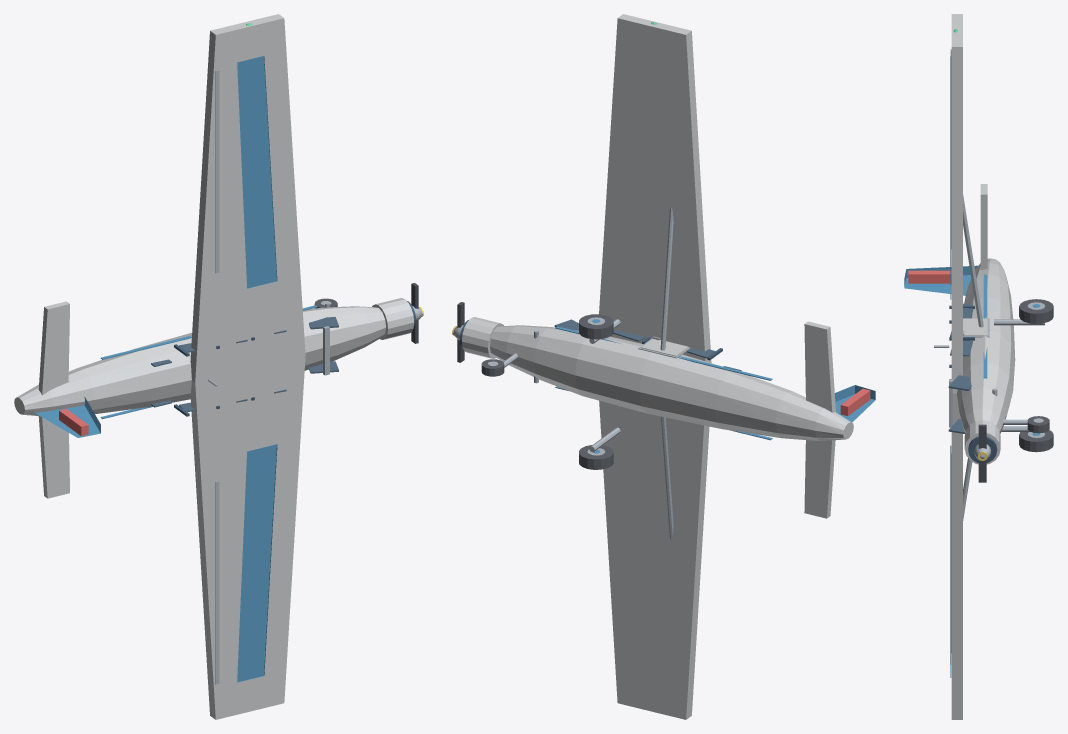
The model's file is small_propeller_plane_source.glb.
3 renders of one model, left to right at view 1: azimuth 30°, elevation 25°; view 2: azimuth 150°, elevation 25°; view 3: azimuth 270°, elevation 25°, orthographic.
Parts seen in each view (by area): view 1: Right_main_wing, Left_main_wing, Main_fuselage_white, Blue_wing_stripe_-1, Blue_wing_stripe_1, Tailplane_right, Tailplane_left, Engine_cowling, Aileron_-1, Aileron_1, Vertical_tail_fin; view 2: Right_main_wing, Left_main_wing, Main_fuselage_white, Tailplane_right, Tailplane_left, Engine_cowling, Wing_support_strut_1, Main_tire_1, Wing_support_strut_-1; view 3: Main_fuselage_white, Right_main_wing, Left_main_wing, Vertical_tail_fin, Engine_cowling, Tailplane_right, Main_tire_1, Wing_support_strut_1, Tail_red_accent, Main_tire_-1, Blue_wing_stripe_1, Blue_wing_stripe_-1 (+8 smaller).
Part boxes in pixels (x1,y1,x2,y2): Right_main_wing: (190,14,305,382); Left_main_wing: (190,355,305,719); Main_fuselage_white: (14,306,385,415); Blue_wing_stripe_-1: (237,444,277,682); Blue_wing_stripe_1: (237,56,277,288); Tailplane_right: (38,301,69,395); Tailplane_left: (38,416,69,498); Engine_cowling: (372,298,414,339); Aileron_-1: (215,481,219,684); Aileron_1: (215,70,219,273); Vertical_tail_fin: (34,397,100,437); Right_main_wing: (599,14,711,362); Left_main_wing: (599,400,709,719); Main_fuselage_white: (490,325,853,440); Tailplane_right: (804,321,835,412); Tailplane_left: (804,440,835,518); Engine_cowling: (461,317,503,358); Wing_support_strut_1: (660,206,673,350); Main_tire_1: (579,314,613,339); Wing_support_strut_-1: (661,416,673,541); Main_fuselage_white: (957,258,1015,433); Right_main_wing: (951,14,962,393); Left_main_wing: (951,393,962,719); Vertical_tail_fin: (904,265,977,295); Engine_cowling: (964,420,1000,464); Tailplane_right: (980,184,987,270); Main_tire_1: (1019,299,1053,323); Wing_support_strut_1: (963,194,983,327); Tail_red_accent: (908,270,951,283); Main_tire_-1: (1019,430,1053,452); Blue_wing_stripe_1: (950,56,951,299); Blue_wing_stripe_-1: (950,445,951,677).
Size of the model in its own units: 6.39 by 10.54 by 2.12.
